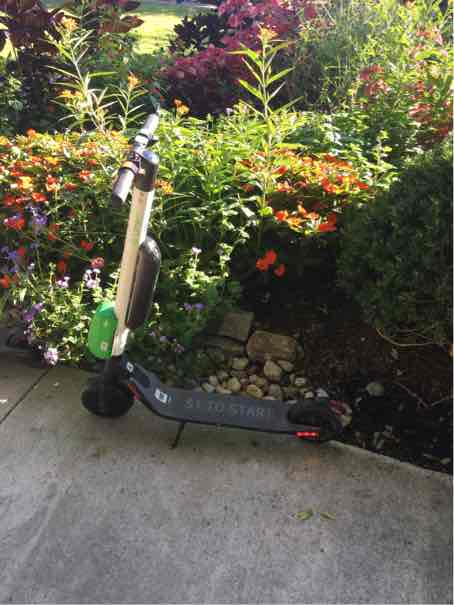scooter: (69, 96, 376, 470)
